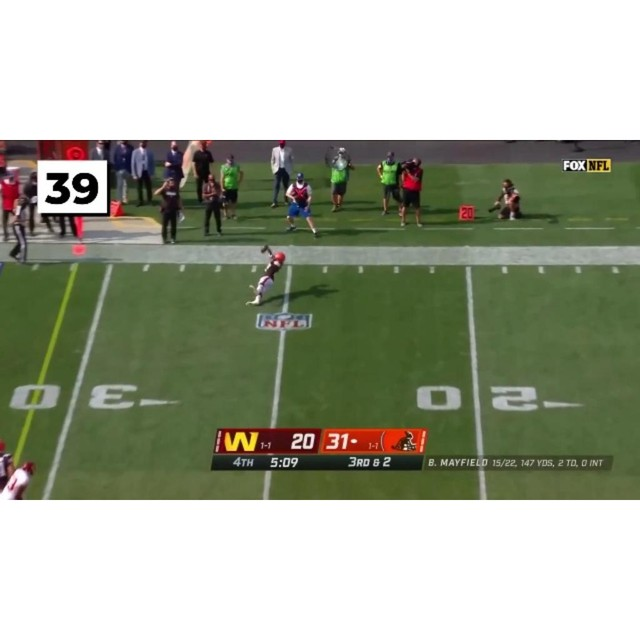american-football-player: (245, 247, 288, 306)
